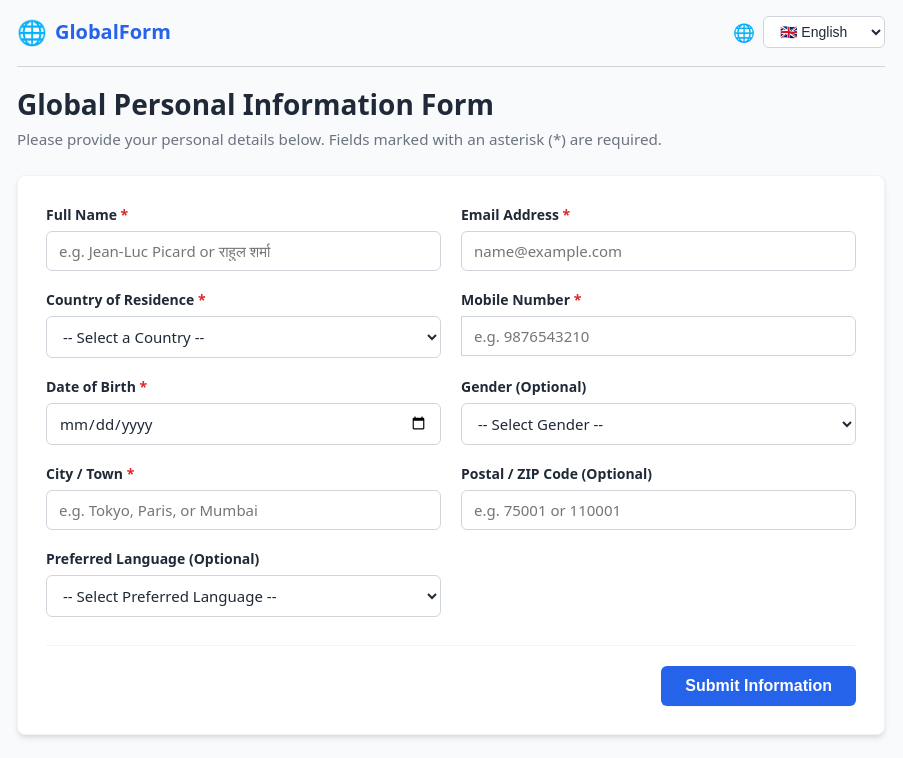
Scenario: Global Personal Information Form - Frontend Integration Tests › rejects names containing numbers
In the field labelled "Full Name *": coordinates (244, 251) x1=46 y1=231 x2=441 y2=271, type "Alex 123"
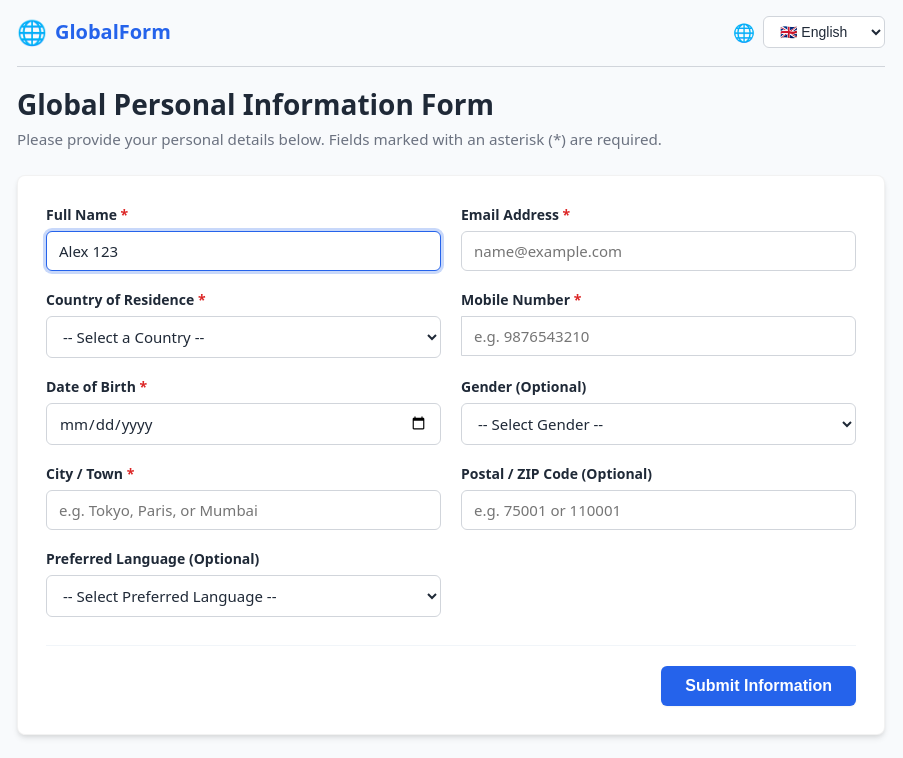
Click the button "Submit Information": coordinates (759, 686) x1=661 y1=666 x2=856 y2=706
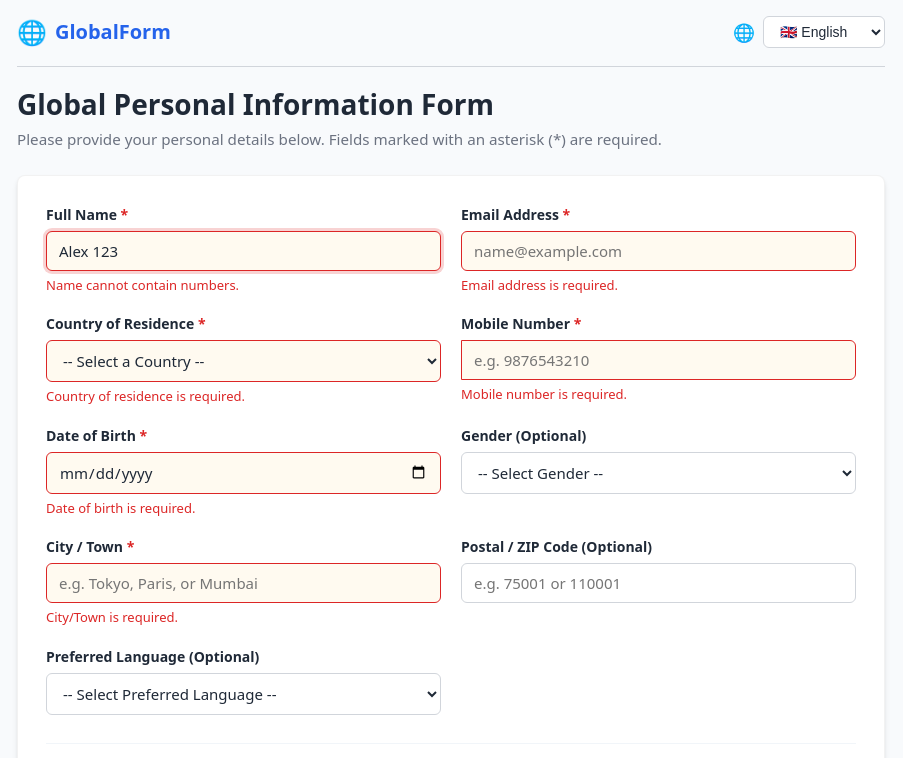
Expected: the text "Name cannot contain numbers." is shown, x1=46 y1=276 x2=239 y2=294
